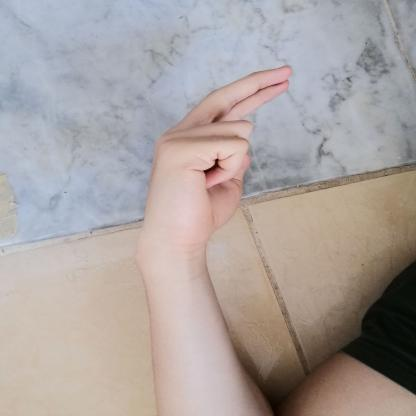ZAY: (123, 56, 309, 270)
